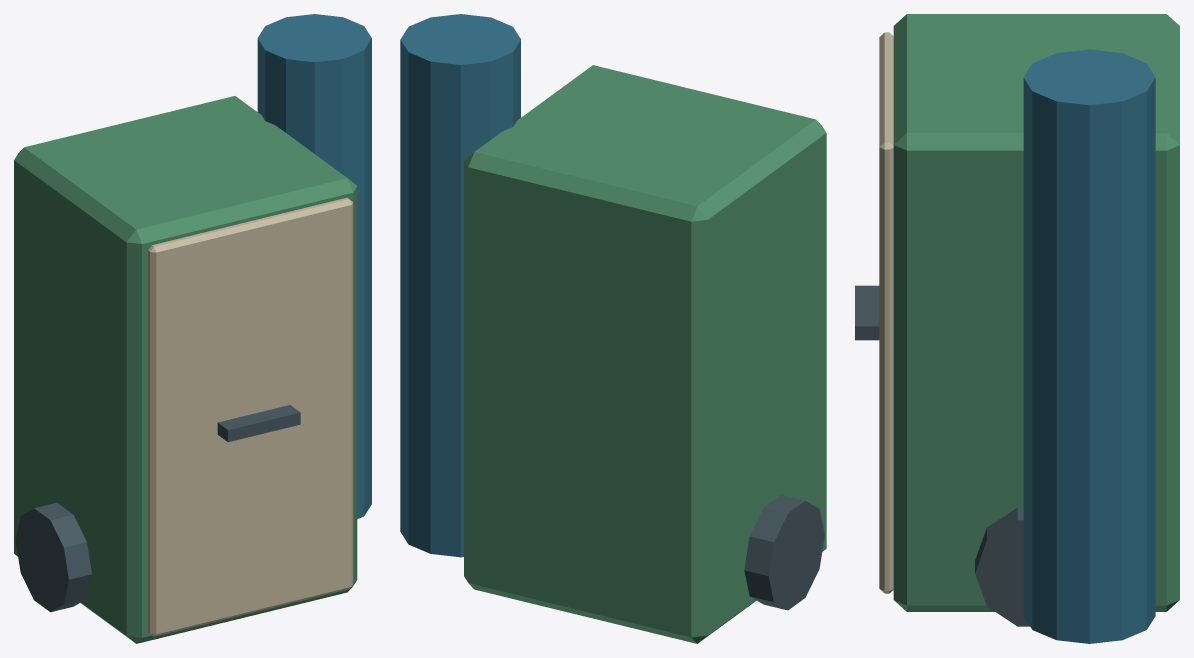
Rendered from welding_cart.glb.
3 views of the same model, side by side, from view 1: azimuth 30°, elevation 25°; view 2: azimuth 150°, elevation 25°; view 3: azimuth 270°, elevation 25° (orthographic). The views are drawn at different scales.
Parts seen in each view (by area): view 1: welding_cart; view 2: welding_cart; view 3: welding_cart.
Part boxes in pixels (box(x1,y1,x2,y2)): welding_cart: box(14, 14, 371, 643); welding_cart: box(400, 14, 826, 643); welding_cart: box(855, 14, 1179, 643).
Size of the model in its own units: 1.05 by 1.41 by 0.7375.
